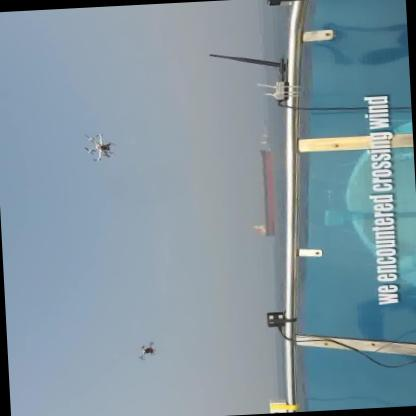drone: (71, 120, 123, 170), (131, 335, 162, 363)
